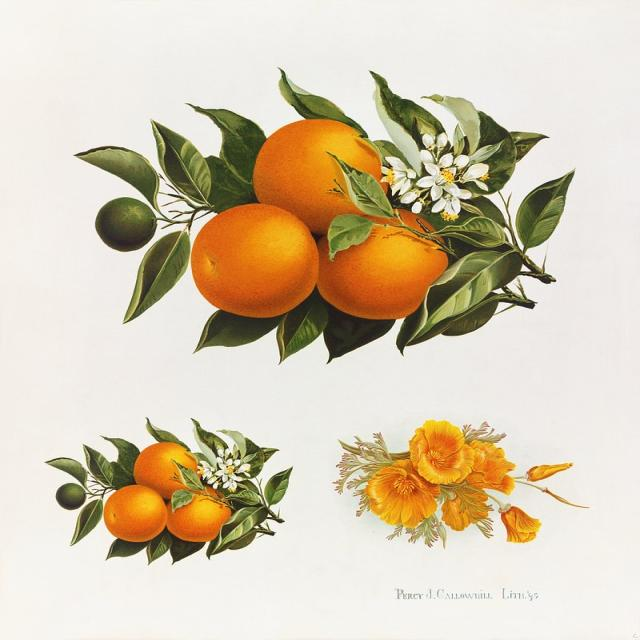orange: (256, 100, 375, 218), (195, 202, 316, 314), (320, 220, 438, 322), (101, 480, 161, 544), (171, 494, 232, 548), (135, 444, 205, 490)
